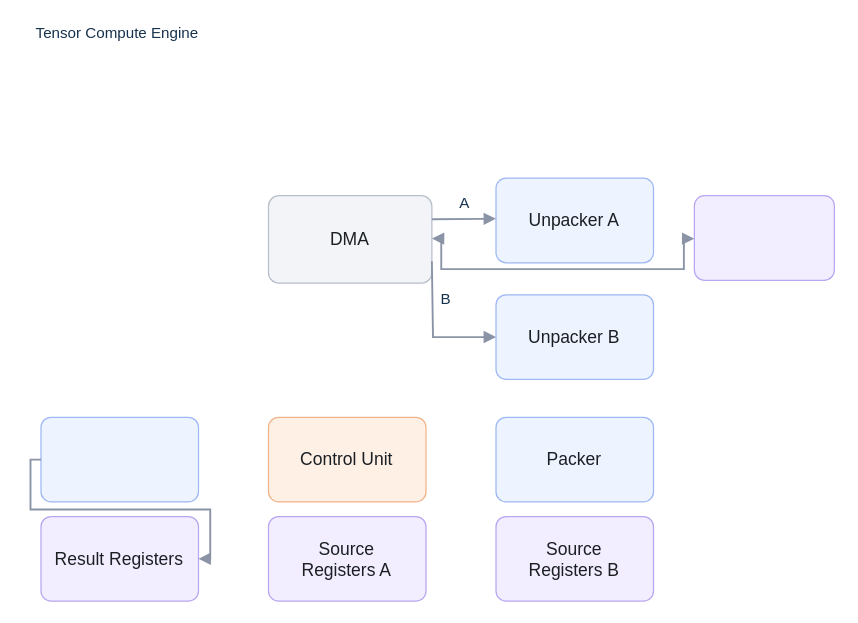
This 858x623 diagram has some shape labels left out. Here are the shapes that lost their labels. From the top down, the box of each, then its label:
(693, 194, 834, 280): Off-Chip Memory
(40, 416, 198, 502): FPU
